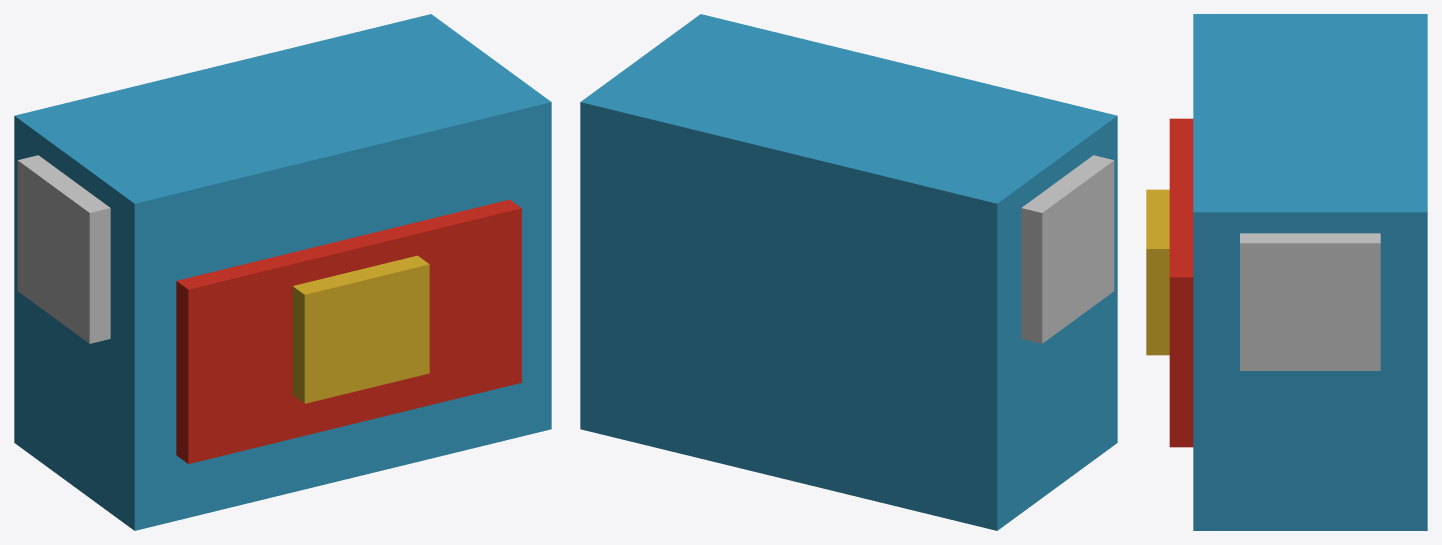
File: apex_chestplate.obj
The picture shows the model from 3 angles, left to right: view 1: azimuth 30°, elevation 25°; view 2: azimuth 150°, elevation 25°; view 3: azimuth 270°, elevation 25°; orthographic projection. The views are drawn at different scales.
Parts seen in each view (by area): view 1: apex_chestplate; view 2: apex_chestplate; view 3: apex_chestplate.
Part boxes in pixels (left/top/right/bottom): apex_chestplate: left=14, top=14, right=551, bottom=530; apex_chestplate: left=580, top=14, right=1117, bottom=530; apex_chestplate: left=1146, top=14, right=1427, bottom=530.
Size of the model in its own units: 0.44 by 0.3 by 0.24.
